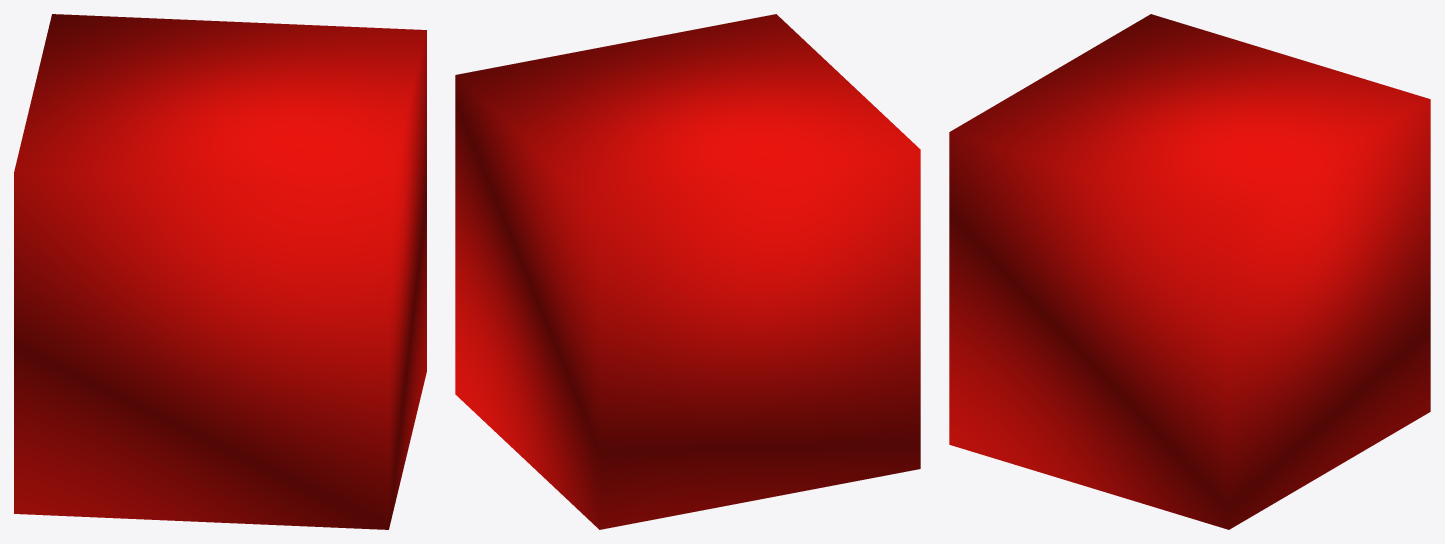
File: Cubo.fbx
The picture shows the model from 3 angles, left to right: view 1: azimuth 30°, elevation 25°; view 2: azimuth 150°, elevation 25°; view 3: azimuth 270°, elevation 25°; orthographic projection. The views are drawn at different scales.
Parts seen in each view (by area): view 1: Cube.001; view 2: Cube.001; view 3: Cube.001.
Boxes of the visible parts, box(x1,y1,x2,y2) form: Cube.001: box(14, 14, 426, 529); Cube.001: box(455, 14, 920, 529); Cube.001: box(949, 14, 1430, 529).
Bounding box in the file's own units: 29.55 × 21.17 × 29.55.
